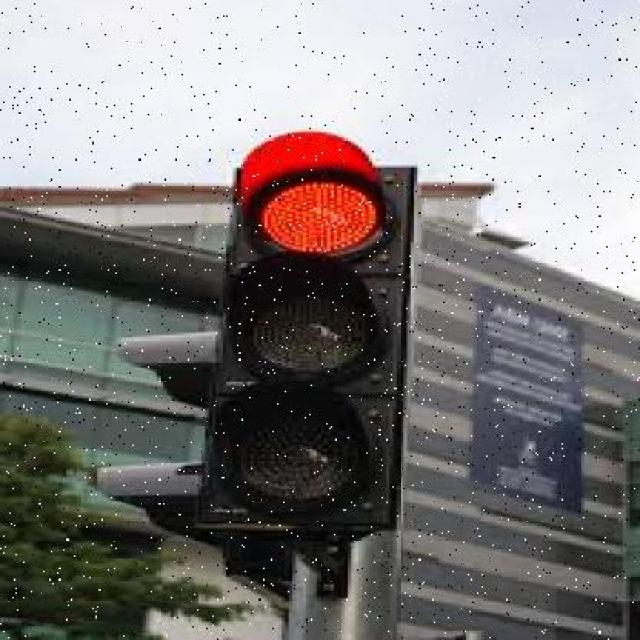red-light: (175, 125, 456, 589)
